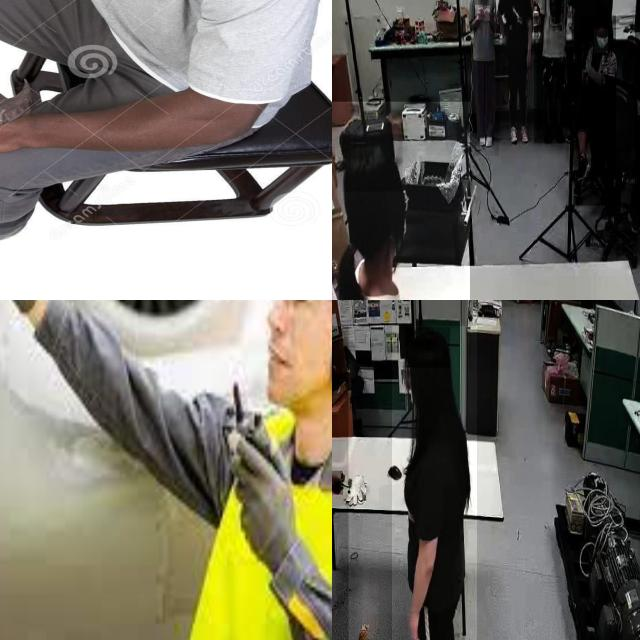Ear-protection: (267, 300, 332, 414)
face_mask: (594, 28, 608, 54)
hand_noglove: (408, 607, 421, 640), (332, 470, 343, 495), (524, 49, 532, 71), (475, 5, 483, 21), (537, 29, 543, 50), (484, 6, 491, 22)
head_nohelmet: (343, 134, 403, 192), (406, 326, 450, 368), (595, 6, 611, 28)
person: (332, 101, 470, 300), (392, 326, 477, 640), (574, 15, 616, 206), (494, 0, 537, 139), (534, 0, 573, 144), (466, 0, 499, 157), (567, 0, 609, 53)
